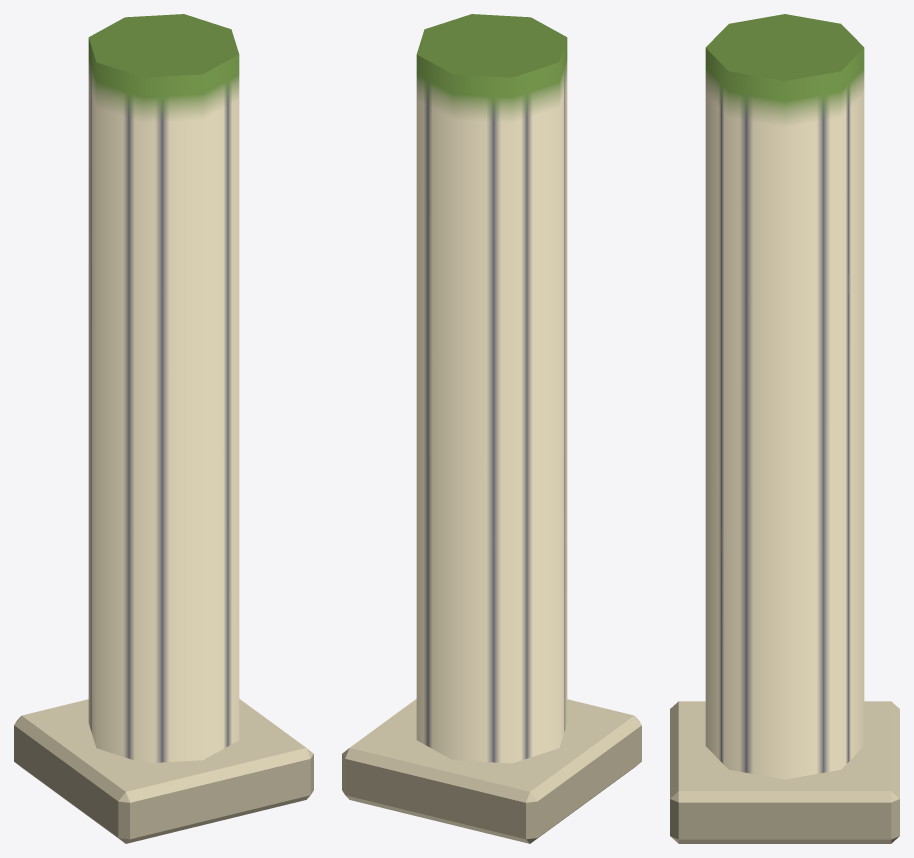
The model's file is prop_column0_ba35.glb.
3 views of the same model, side by side, from view 1: azimuth 30°, elevation 25°; view 2: azimuth 150°, elevation 25°; view 3: azimuth 270°, elevation 25° (orthographic).
Parts seen in each view (by area): view 1: prop_column0_ba35; view 2: prop_column0_ba35; view 3: prop_column0_ba35.
Boxes of the visible parts, x1,y1,x2,y2 form: prop_column0_ba35: [14, 14, 313, 843]; prop_column0_ba35: [342, 14, 641, 843]; prop_column0_ba35: [670, 14, 899, 843].
Size of the model in its own units: 0.4862 by 1.75 by 0.4862.
Materials: 1 (1 with a texture image).
